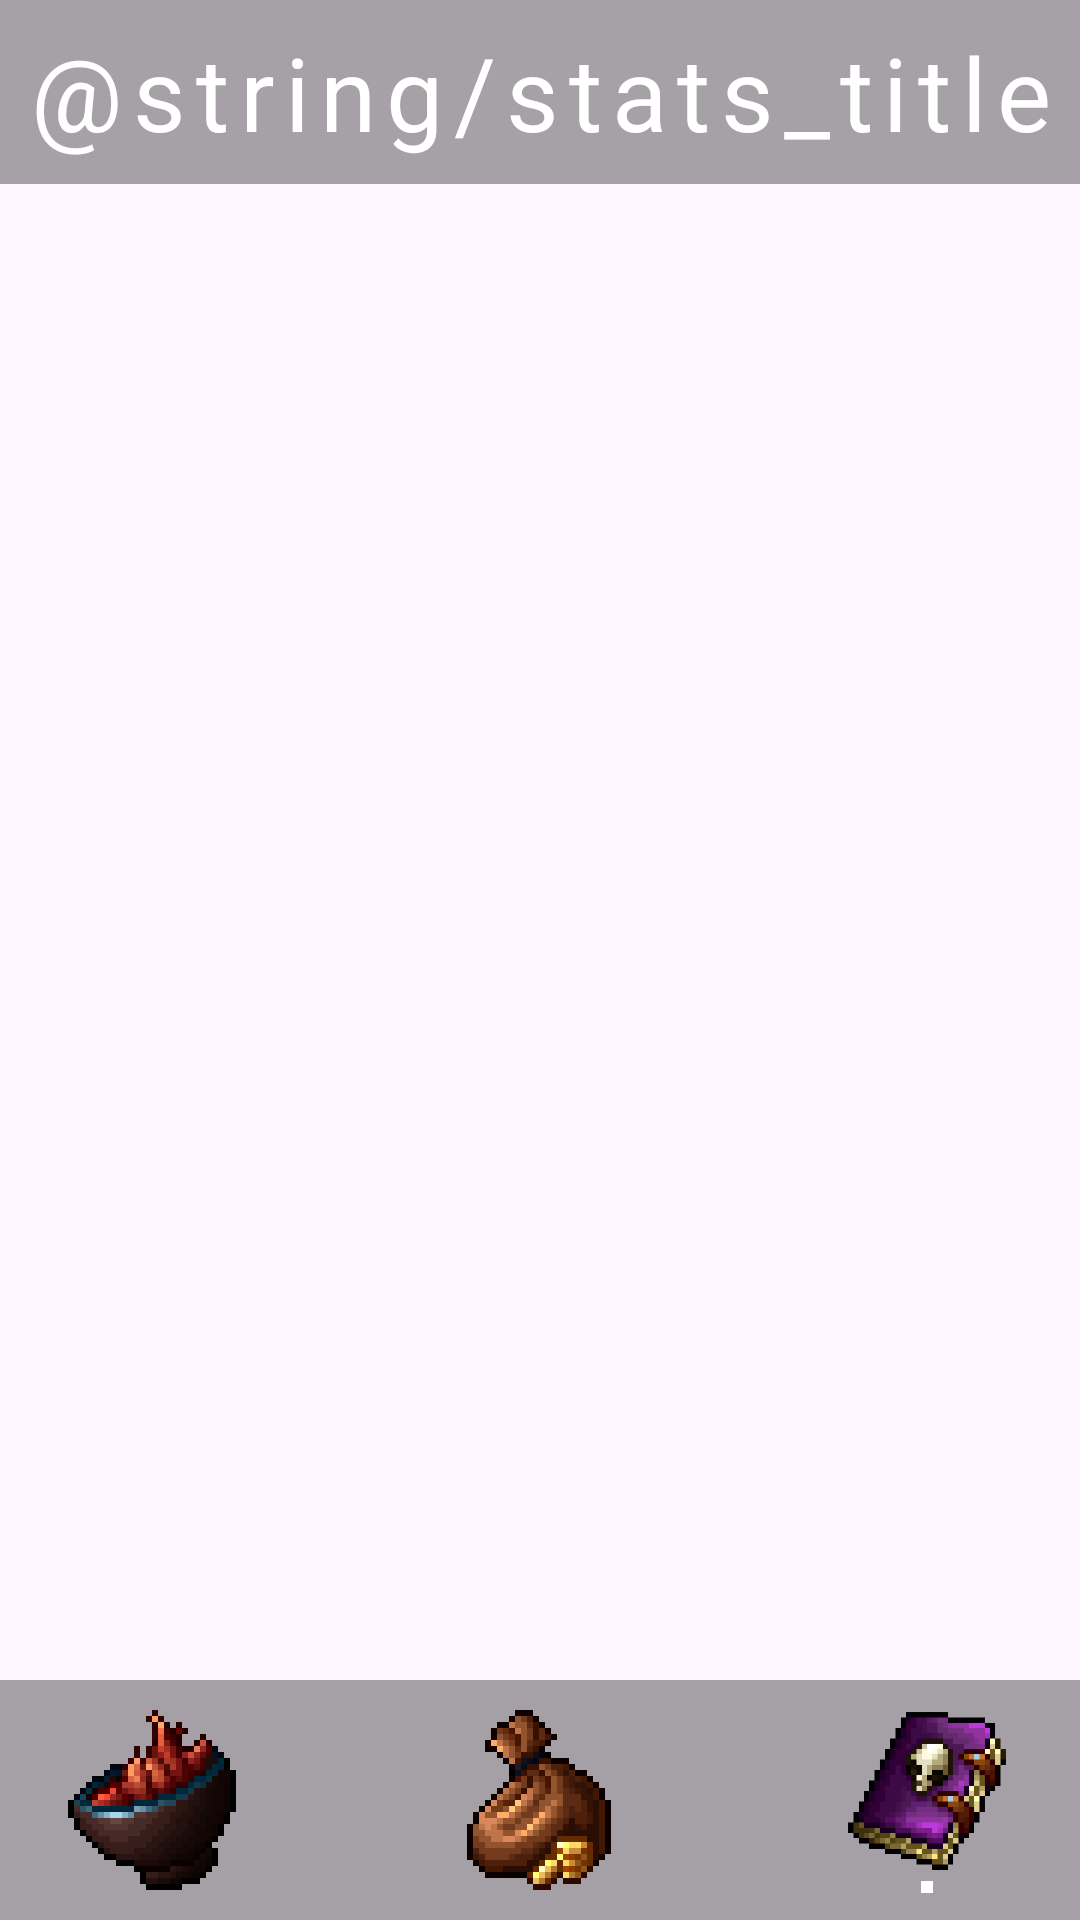

Named icons in this screenshot (1080w x 1920h) and their bounding boxes, (x1, y1, x2, y2):
market: (467, 1710, 611, 1890)
